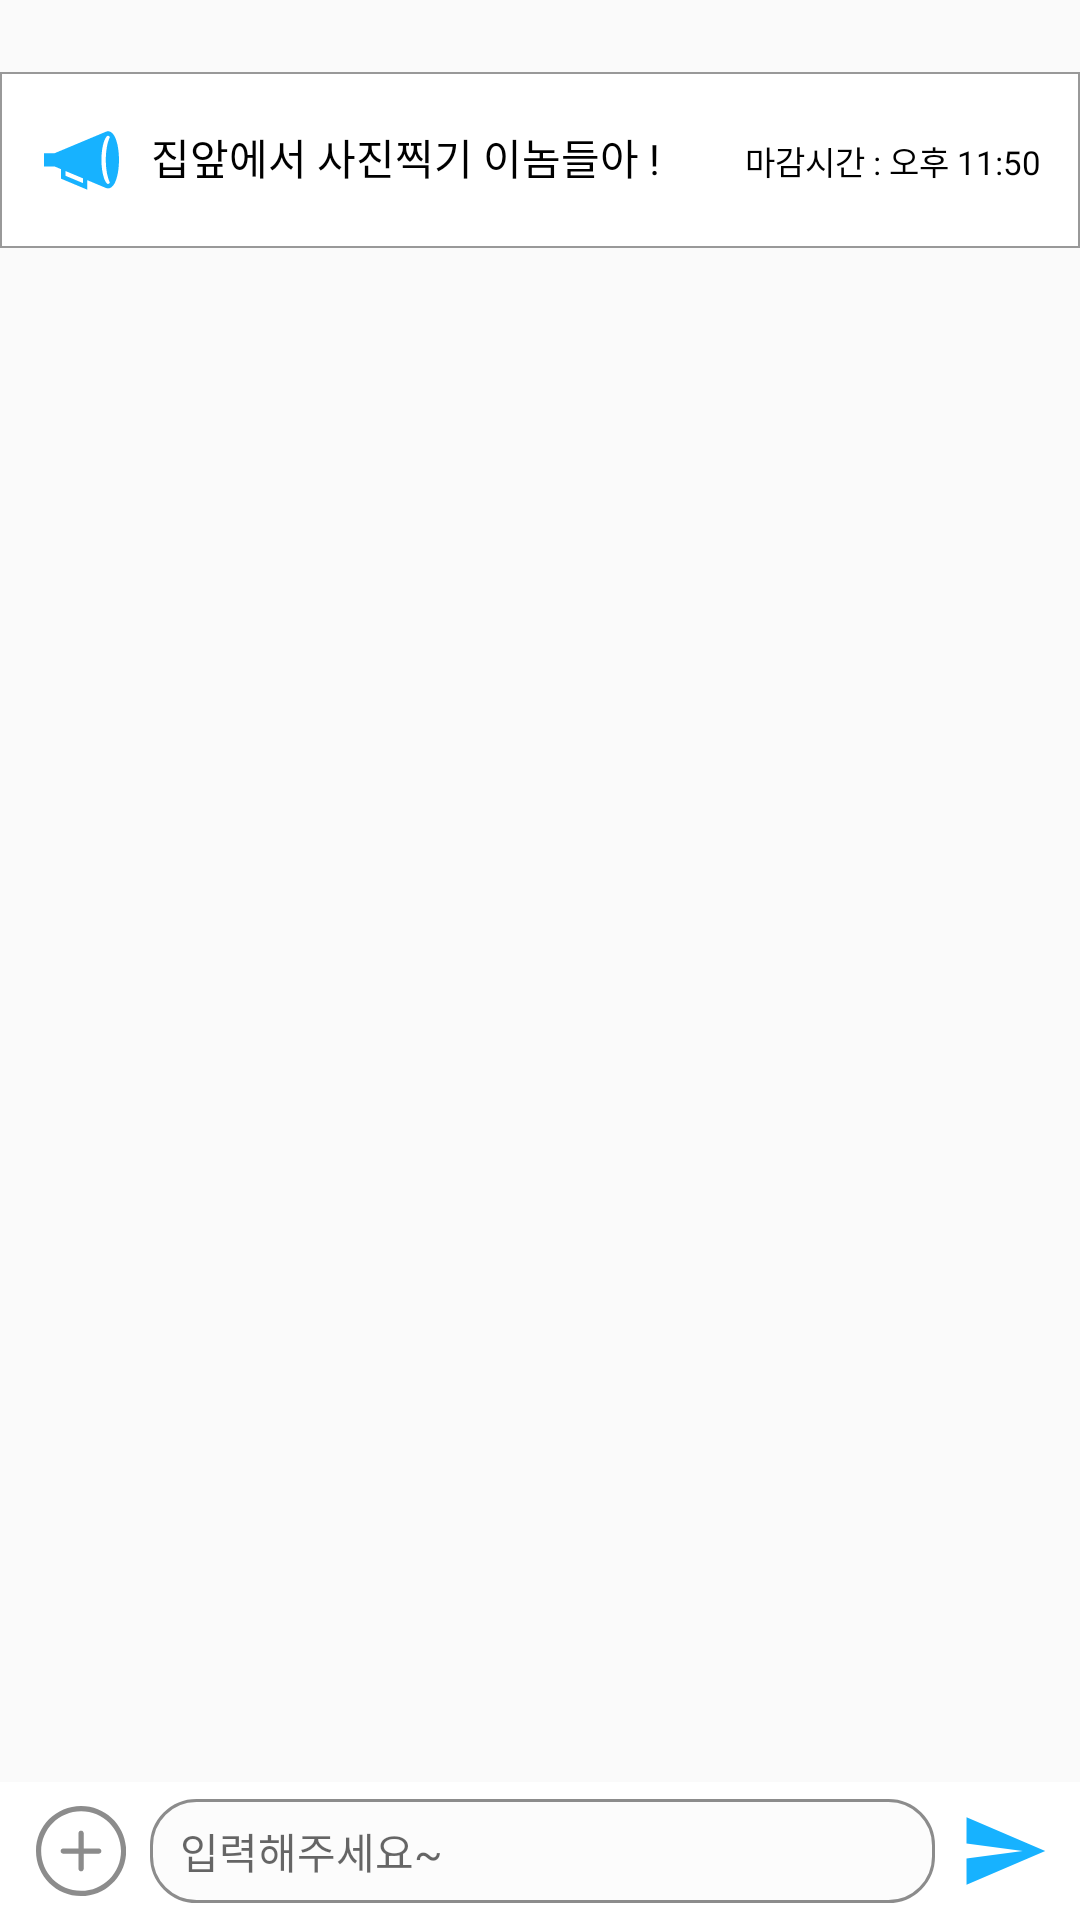

Screen size 1080px×1920px. Icon name, then its center in pixels as point (x, y):
notice: point (81, 160)
plus: point (81, 1851)
send: point (1005, 1851)
